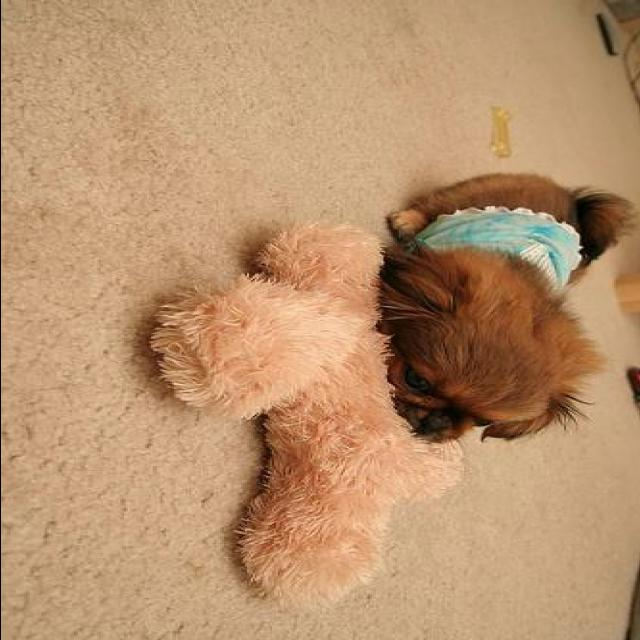pekinese: (374, 174, 638, 443)
